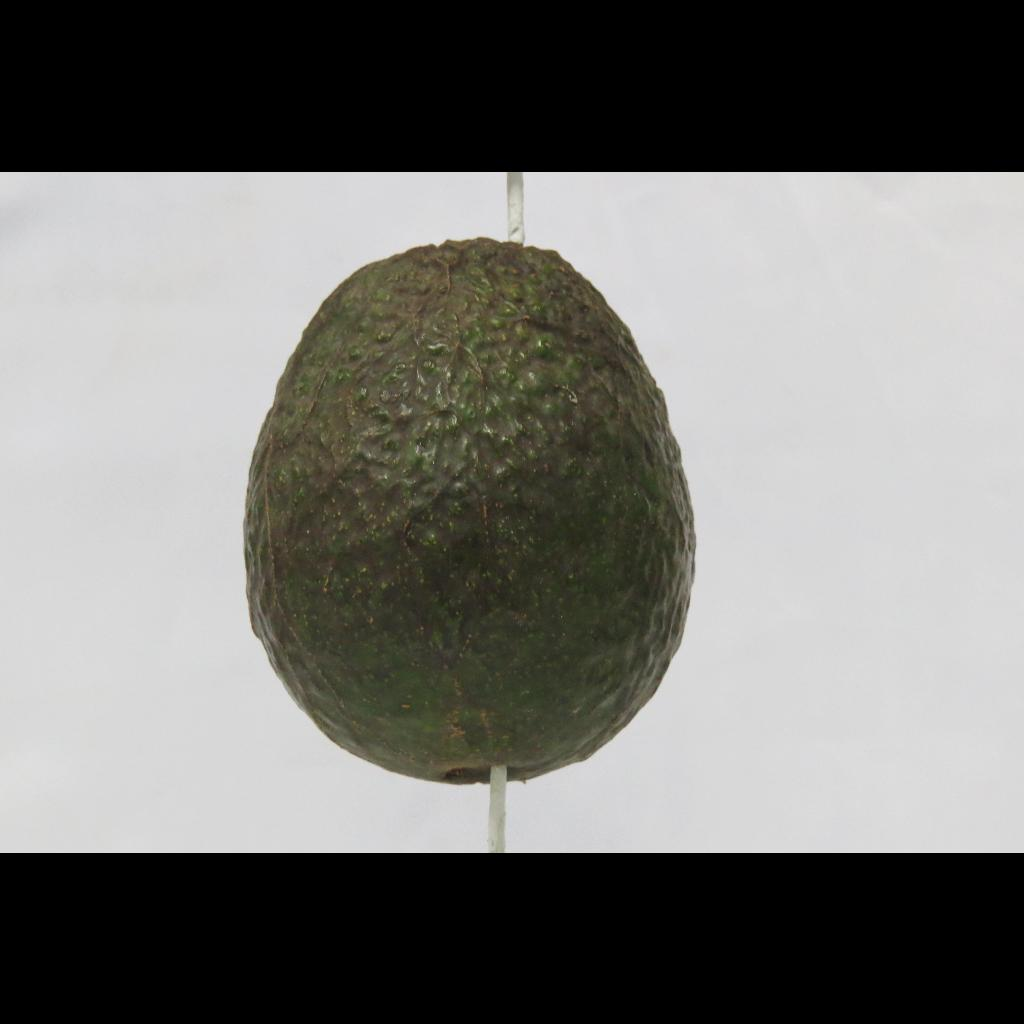Healthy: (102, 214, 830, 816)
